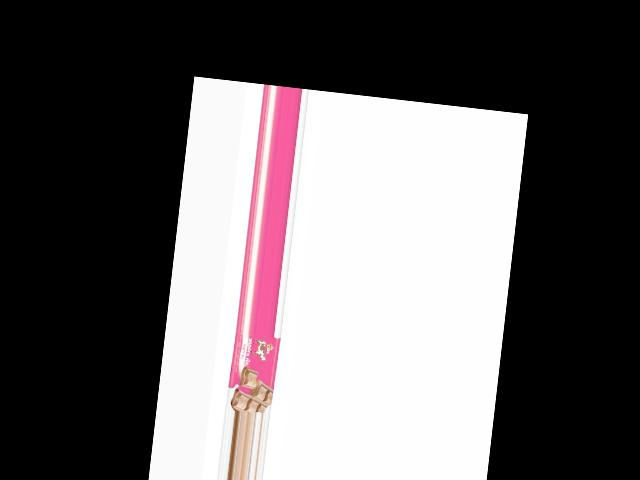chocolate: (226, 331, 280, 413)
